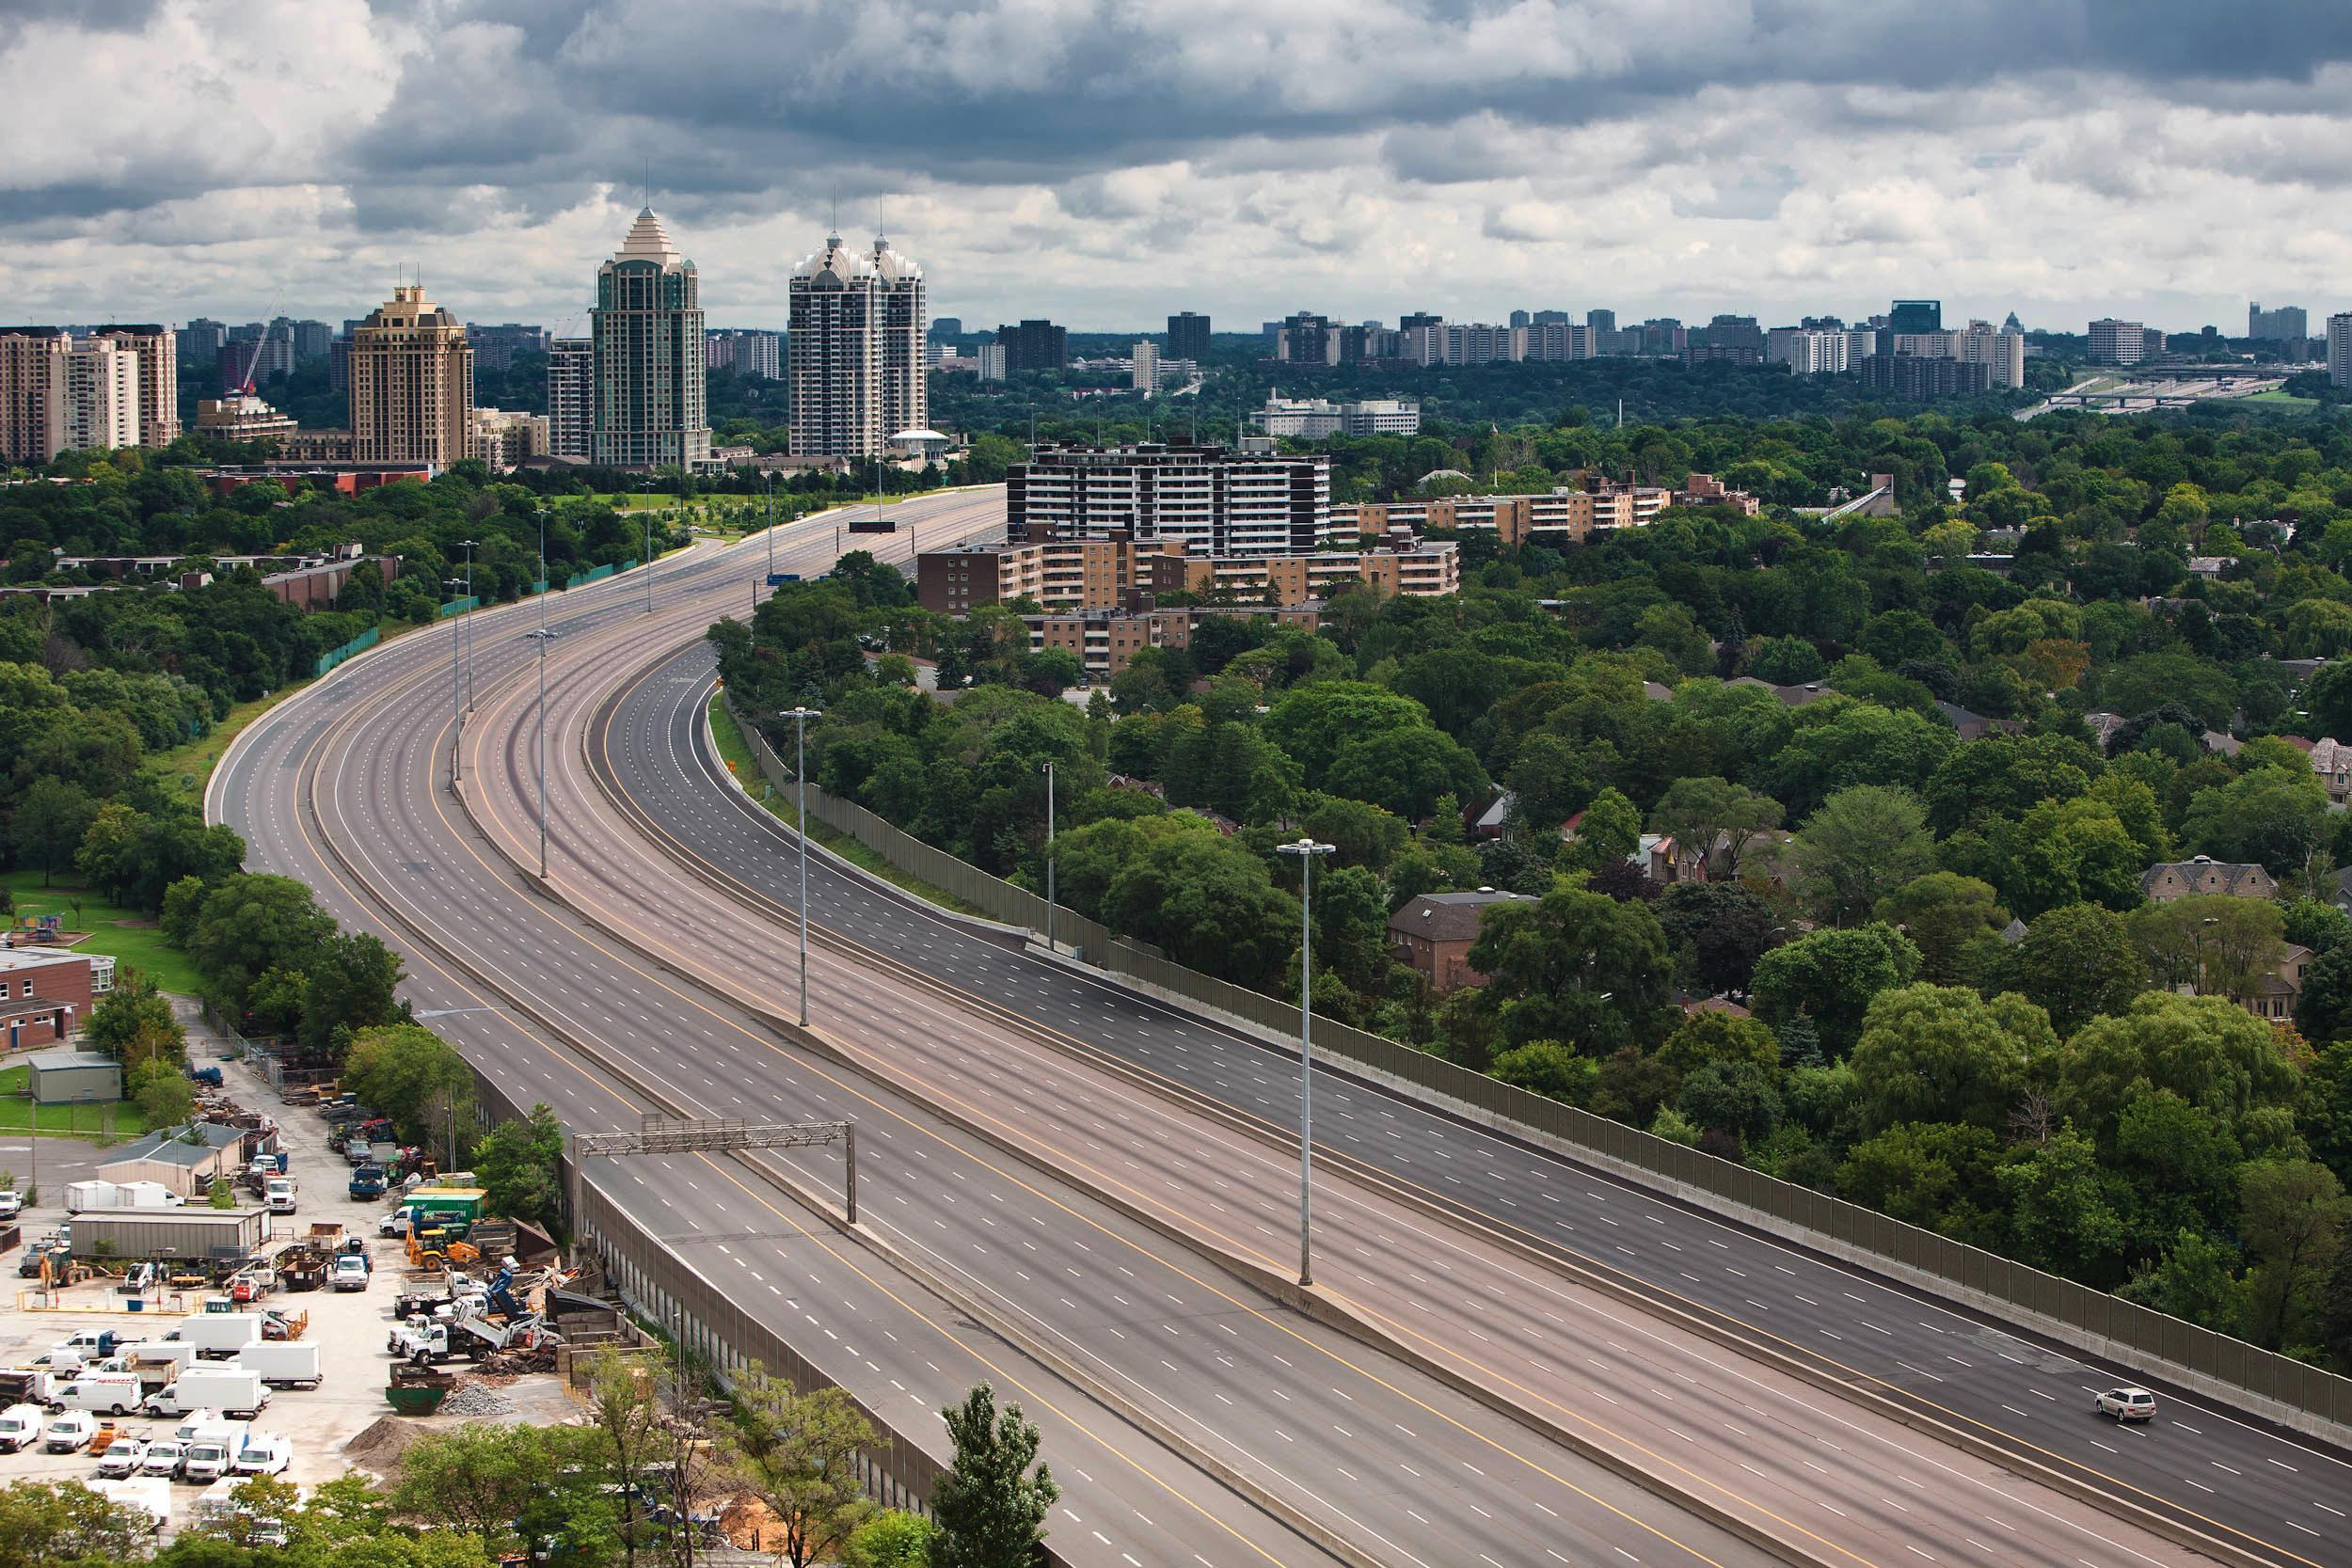car: (0, 1316, 327, 1486), (383, 1249, 551, 1416), (14, 1209, 285, 1288), (310, 1073, 434, 1204), (222, 1132, 308, 1218), (369, 1181, 492, 1234), (2084, 1375, 2166, 1431), (329, 1251, 383, 1293)
cloud: (555, 2, 1822, 262), (7, 5, 581, 252)
house: (917, 455, 1465, 621), (579, 206, 721, 476), (779, 234, 929, 469), (1003, 600, 1256, 679), (1281, 311, 1605, 364), (1365, 485, 1664, 534), (1244, 397, 1426, 439), (978, 311, 1071, 383)
